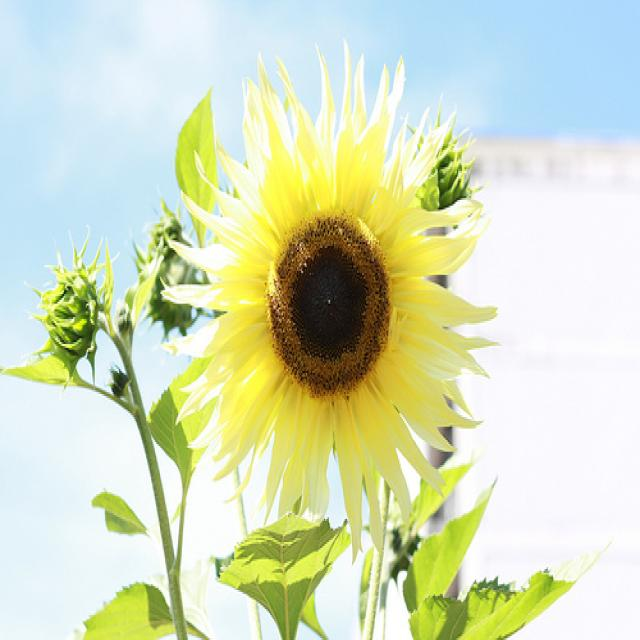sunflower: (156, 33, 501, 550)
